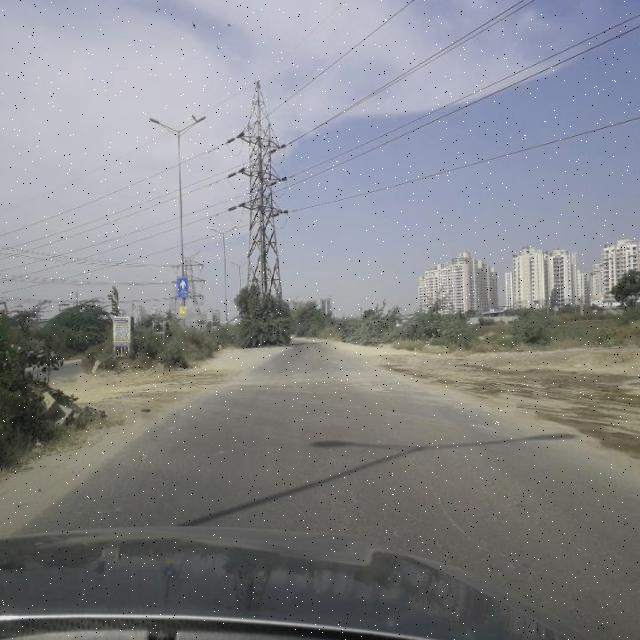D00: (385, 405, 483, 551)
